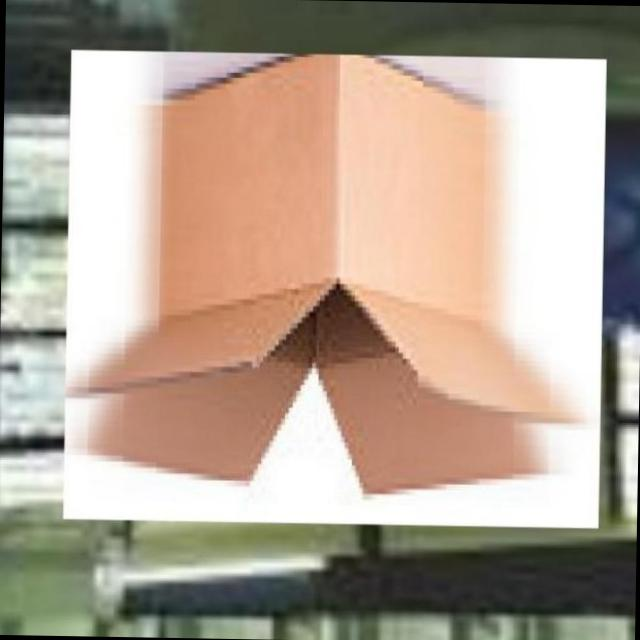box: (53, 41, 614, 534)
